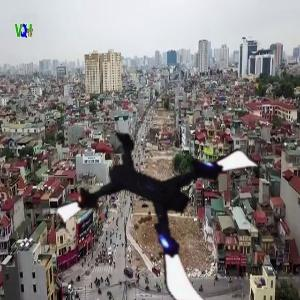drone: (78, 106, 264, 292)
